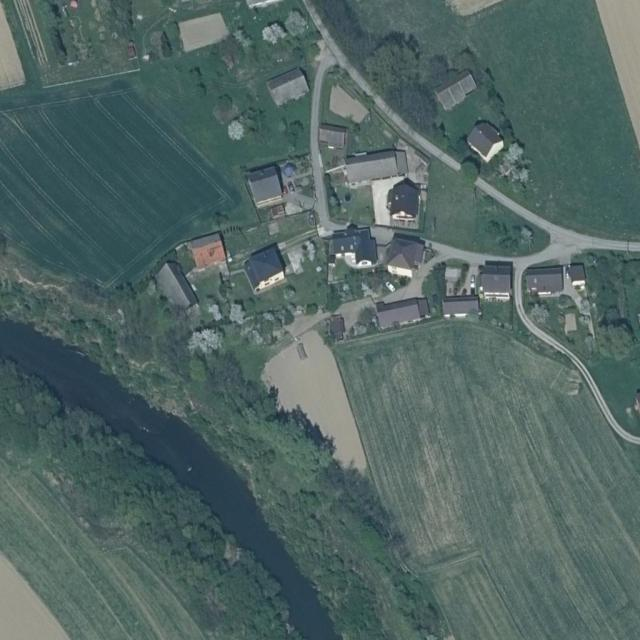agricultural_land: (333, 270, 640, 640), (0, 34, 238, 330), (254, 326, 398, 489), (348, 0, 506, 70), (0, 552, 70, 639), (0, 2, 26, 90), (446, 1, 501, 16)
building: (151, 258, 202, 319), (238, 242, 292, 296), (342, 146, 410, 185), (328, 222, 378, 270), (462, 116, 509, 164), (431, 68, 481, 113), (384, 232, 428, 279), (245, 163, 288, 209), (386, 176, 422, 229), (265, 67, 311, 108), (374, 296, 431, 329), (187, 232, 228, 270), (481, 261, 512, 301), (526, 265, 564, 297), (315, 122, 348, 151), (442, 295, 480, 318), (566, 262, 585, 291), (327, 314, 346, 341), (445, 266, 463, 284)
greenland: (411, 158, 562, 270), (185, 10, 312, 105), (14, 0, 140, 88), (131, 0, 207, 105), (483, 63, 535, 190), (184, 288, 252, 367), (205, 92, 273, 152), (228, 302, 305, 347), (257, 6, 313, 54), (422, 262, 446, 318), (274, 118, 308, 153), (231, 29, 253, 50), (286, 302, 319, 315), (218, 275, 235, 298), (284, 285, 296, 301)
unmetalled_road: (288, 0, 463, 183), (309, 47, 336, 230), (432, 242, 575, 270), (384, 258, 444, 317), (369, 226, 394, 246)
